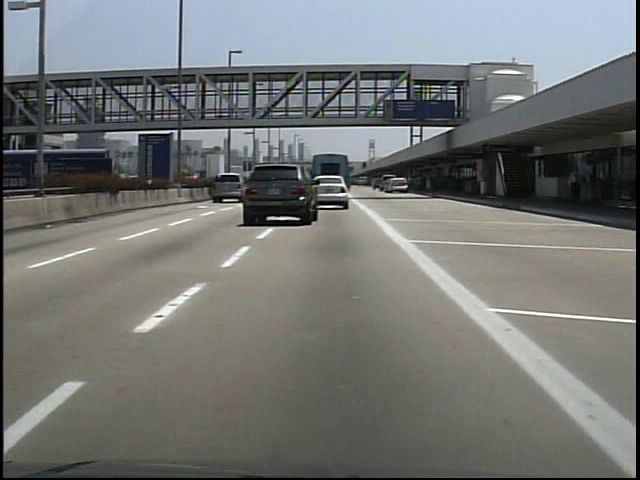person: (562, 166, 583, 209)
